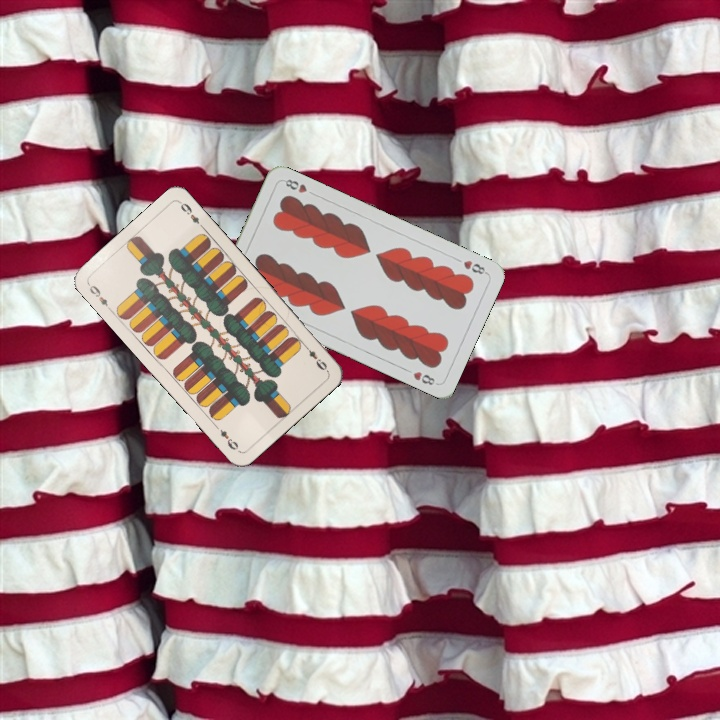E9: (300, 340, 330, 374), (84, 279, 114, 313)
H8: (459, 256, 490, 277)
